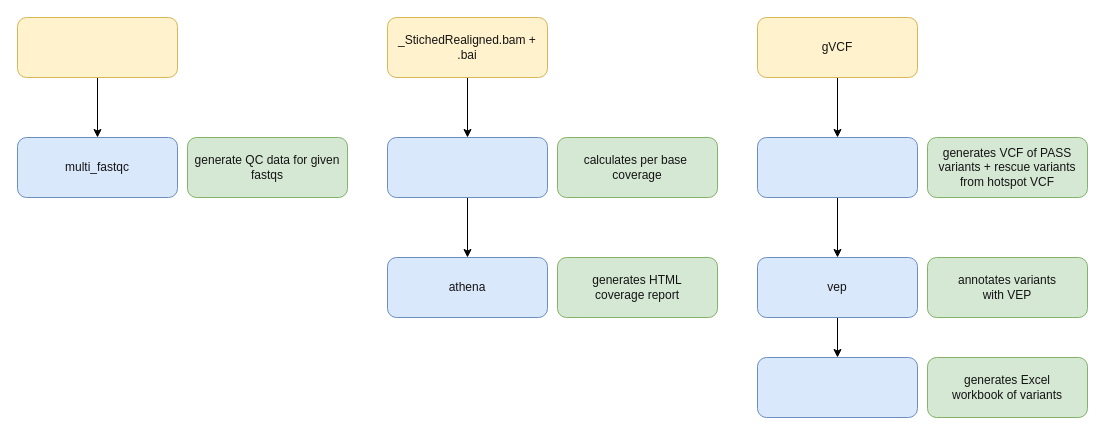
This 1105x435 diagram has some shape labels left out. Here are the shapes that lost their labels. From the top down, the centre of each, then its label:
(97,47): .fastq.gz
(467,167): mosdepth
(837,167): tso500_rescue
(837,387): generate_variant_workbook
